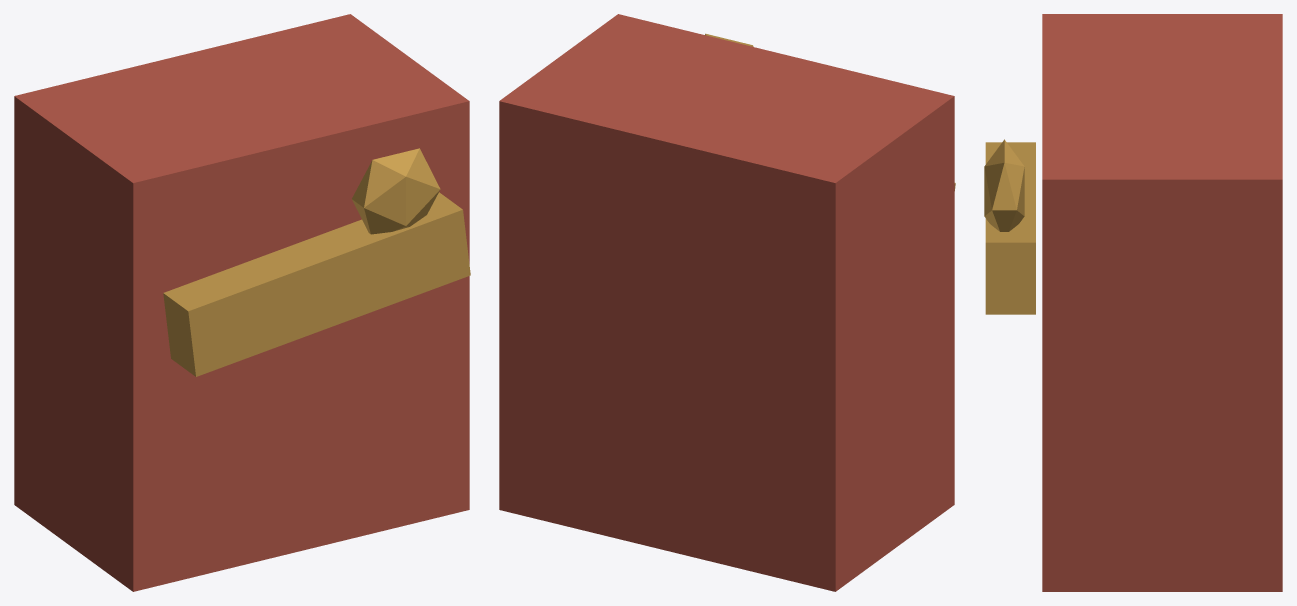
Rendered from child_02_outfit.glb.
3 views of the same model, side by side, from view 1: azimuth 30°, elevation 25°; view 2: azimuth 150°, elevation 25°; view 3: azimuth 270°, elevation 25° (orthographic).
Visible parts, largest first — view 1: outfit_torso, outfit_trim, outfit_badge; view 2: outfit_torso; view 3: outfit_torso, outfit_trim, outfit_badge.
Boxes of the visible parts, left/top/right/bottom form: outfit_torso: left=14, top=14, right=469, bottom=591; outfit_trim: left=163, top=192, right=470, bottom=376; outfit_badge: left=352, top=148, right=440, bottom=234; outfit_torso: left=499, top=14, right=954, bottom=591; outfit_torso: left=1042, top=14, right=1282, bottom=591; outfit_trim: left=985, top=142, right=1035, bottom=314; outfit_badge: left=984, top=139, right=1024, bottom=231.
Bounding box in the file's own units: 0.62 × 0.72 × 0.4718.
